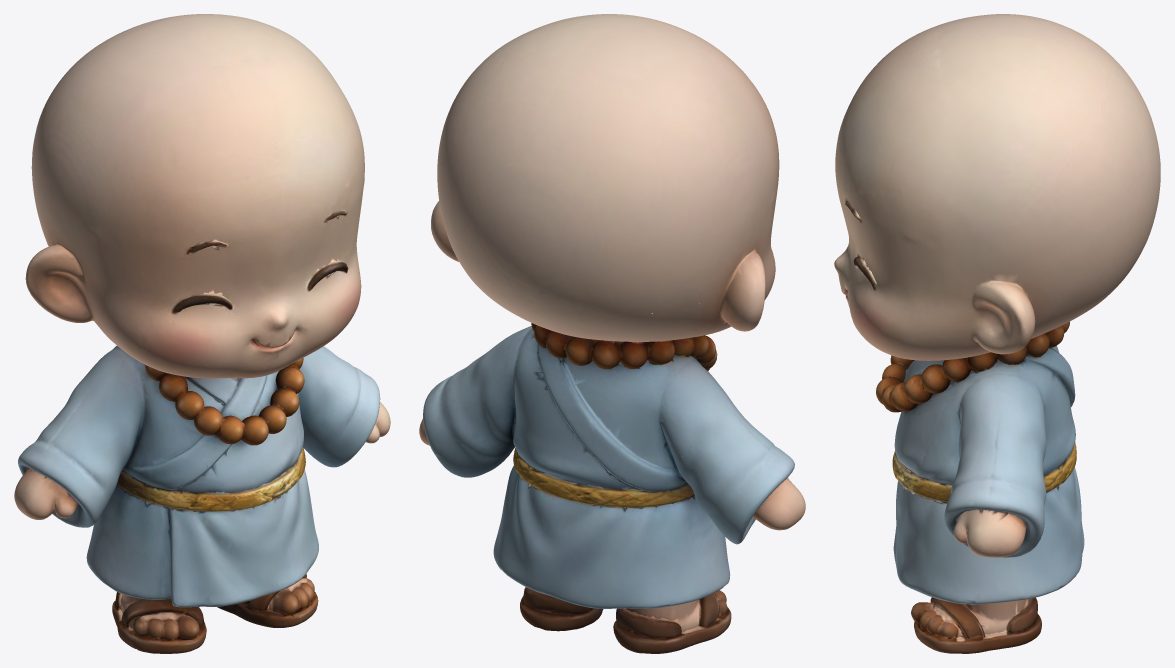
Rendered from monk.glb.
3 views of the same model, side by side, from view 1: azimuth 30°, elevation 25°; view 2: azimuth 150°, elevation 25°; view 3: azimuth 270°, elevation 25° (orthographic). The views are drawn at different scales.
Parts seen in each view (by area): view 1: tripo_node_8cd60323-3642-4a6c-9895-dabfcee96d44; view 2: tripo_node_8cd60323-3642-4a6c-9895-dabfcee96d44; view 3: tripo_node_8cd60323-3642-4a6c-9895-dabfcee96d44.
Boxes of the visible parts, x1=… form: tripo_node_8cd60323-3642-4a6c-9895-dabfcee96d44: x1=14, y1=14, x2=390, y2=653; tripo_node_8cd60323-3642-4a6c-9895-dabfcee96d44: x1=419, y1=14, x2=805, y2=653; tripo_node_8cd60323-3642-4a6c-9895-dabfcee96d44: x1=834, y1=14, x2=1160, y2=653.
Size of the model in its own units: 1.29 by 1.96 by 1.
Materials: 1 (1 with a texture image).
